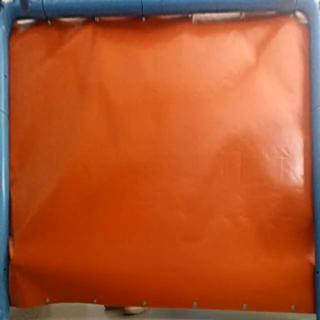Hit-hRxx: (10, 252, 21, 268)
